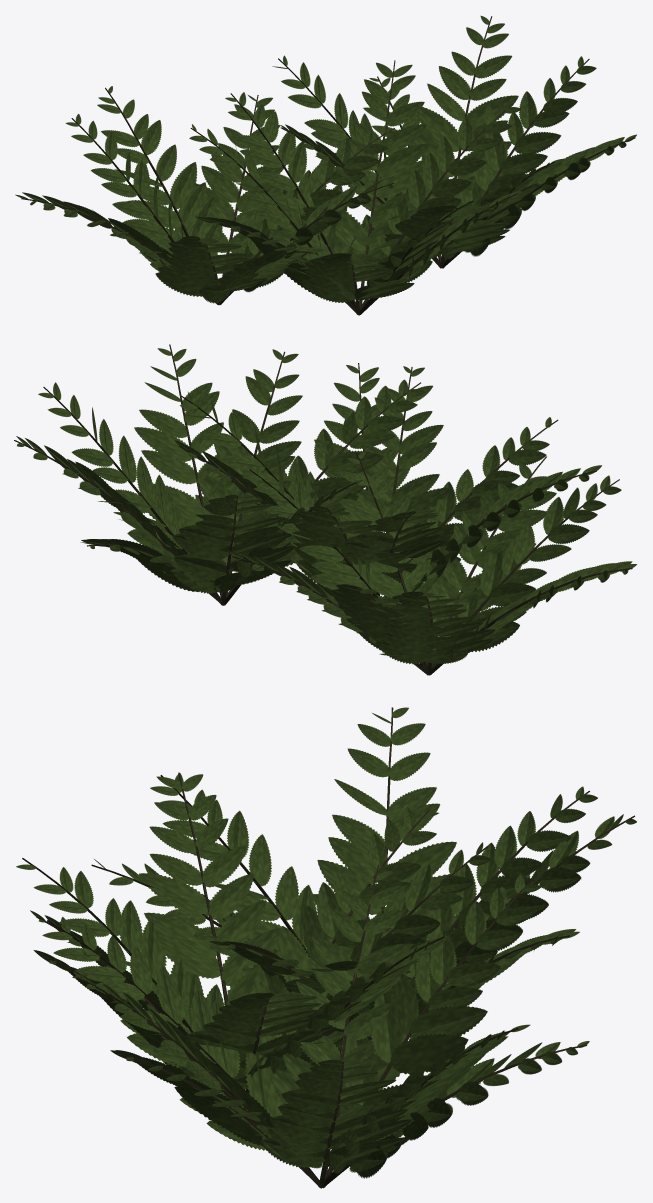
The model's file is rock_fern_v01.glb.
3 views of the same model, one above another, from view 1: azimuth 30°, elevation 25°; view 2: azimuth 150°, elevation 25°; view 3: azimuth 270°, elevation 25° (orthographic). The views are drawn at different scales.
Visible parts, largest first — view 1: rock_fern_v01; view 2: rock_fern_v01; view 3: rock_fern_v01.
Part boxes in pixels (box(x1,y1,x2,y2)): rock_fern_v01: box(15, 15, 636, 315); rock_fern_v01: box(14, 344, 636, 675); rock_fern_v01: box(16, 707, 636, 1188).
Size of the model in its own units: 0.3523 by 0.1083 by 0.2444.
Materials: 2 (2 with a texture image).
